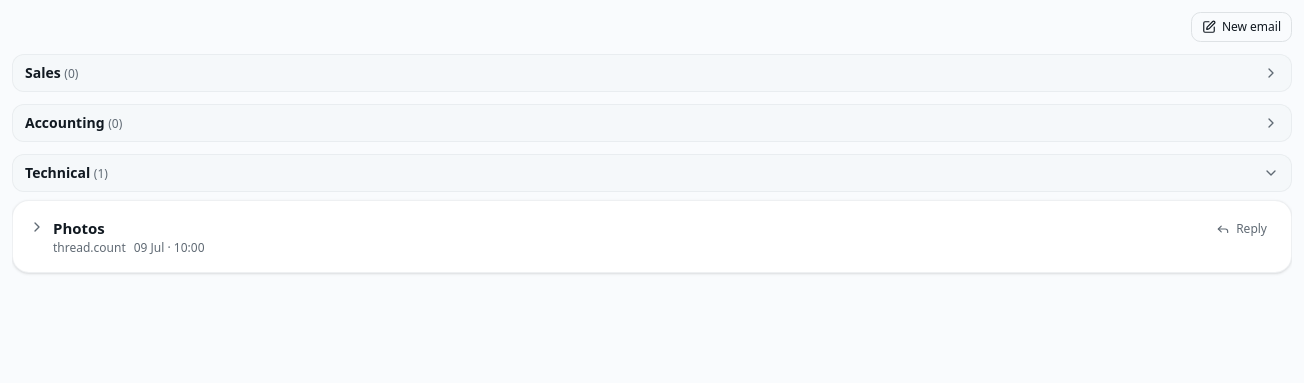
Test: EmailThreadList › renders body_html distilled to text when body_text is empty (HTML-only inbound)
This screenshot has width=1304, height=383.
Click the button "Photos thread.count 09 Jul · 10:00" at (79,228), box [29,217,1200,256]
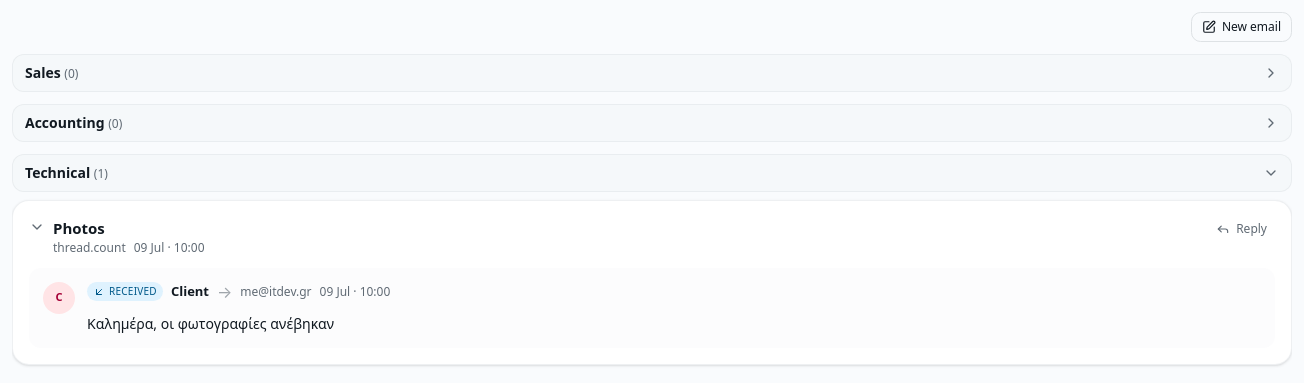
Expected: the text "Καλημέρα, οι φωτογραφίες ανέβηκαν" is shown, [87,314,334,332]
